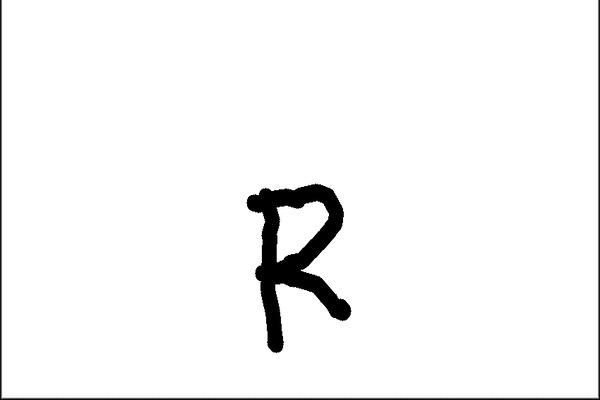R: (241, 166, 360, 369)
